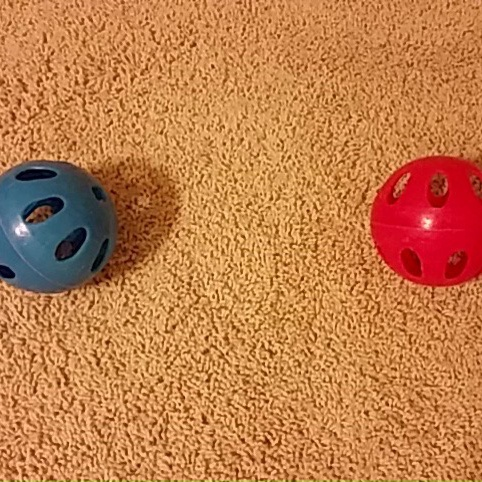blueball: (0, 155, 123, 301)
redball: (366, 150, 482, 291)
